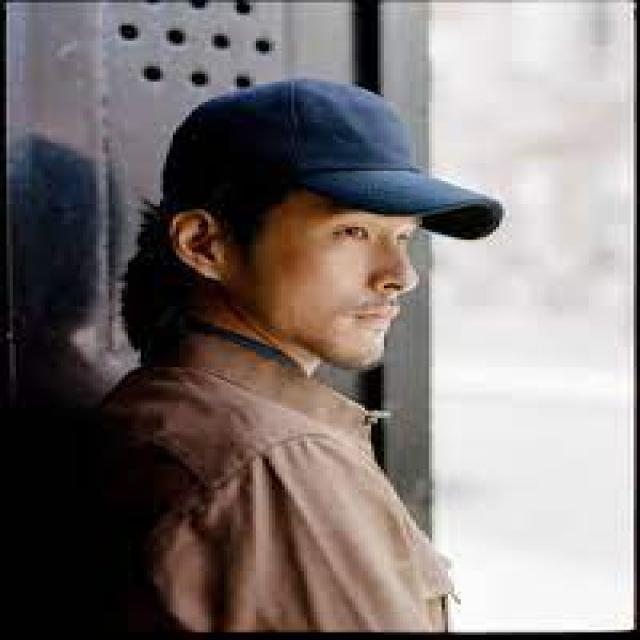cap: (134, 48, 536, 271)
